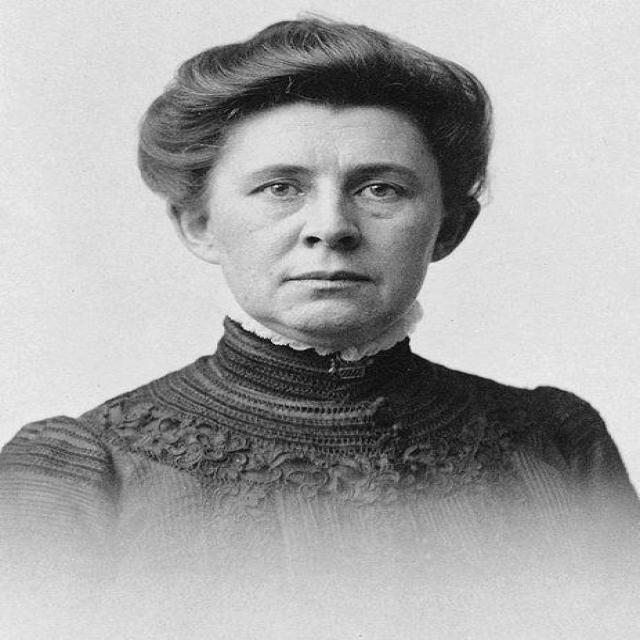mobile_phonerotation: (1, 13, 638, 637)
